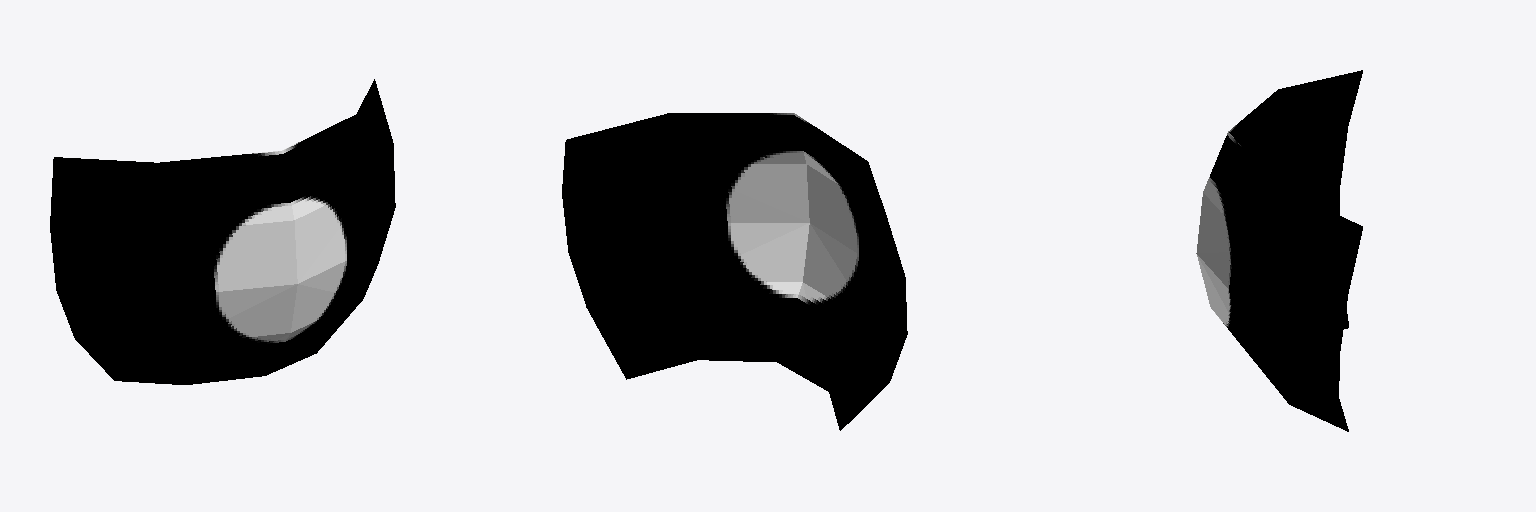
3 views of the same model, side by side, from view 1: azimuth 30°, elevation 25°; view 2: azimuth 150°, elevation 25°; view 3: azimuth 270°, elevation 25° (orthographic).
Visible parts, largest first — view 1: polygon0; view 2: polygon0; view 3: polygon0.
Boxes of the visible parts, x1=… form: polygon0: x1=50, y1=79, x2=395, y2=384; polygon0: x1=562, y1=113, x2=907, y2=430; polygon0: x1=1196, y1=70, x2=1362, y2=431.
Bounding box in the file's own units: 4.04 × 2.79 × 1.7.
1 materials, 1 textured.